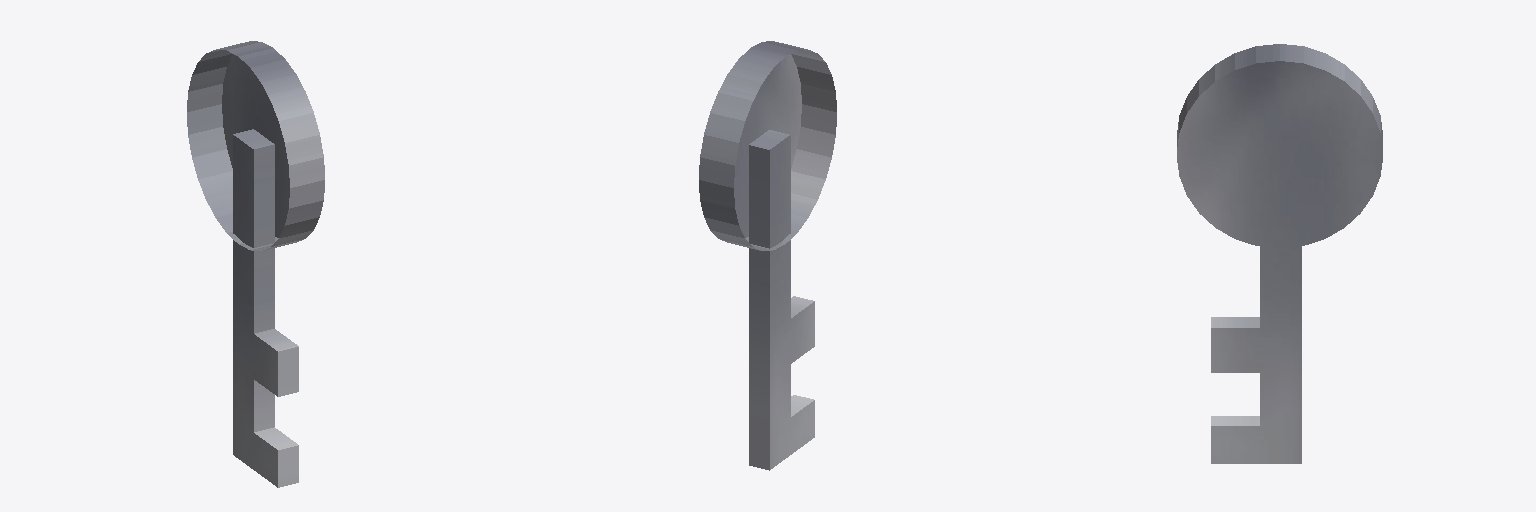
3 views of the same model, side by side, from view 1: azimuth 30°, elevation 25°; view 2: azimuth 150°, elevation 25°; view 3: azimuth 270°, elevation 25° (orthographic).
Parts seen in each view (by area): view 1: Box047; view 2: Box047; view 3: Box047.
Boxes of the visible parts, box(x1,y1,x2,y2) form: Box047: box(187, 41, 324, 487); Box047: box(699, 41, 836, 470); Box047: box(1177, 44, 1382, 463).
Size of the model in its own units: 1.64 by 18.08 by 8.33.
1 materials, 1 textured.